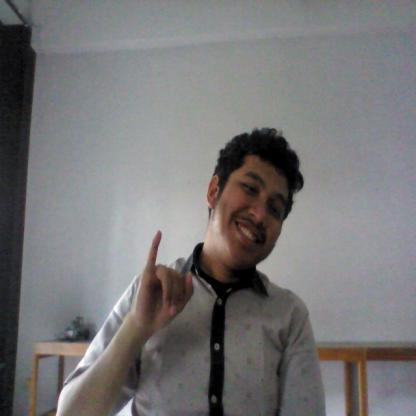I: (132, 226, 194, 344)
